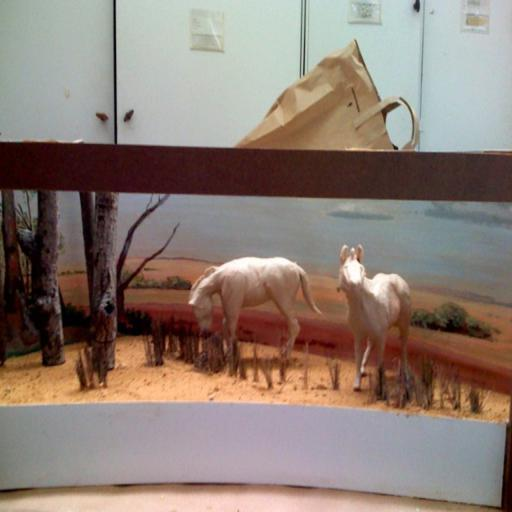horse: (190, 248, 324, 362), (338, 243, 412, 392)
